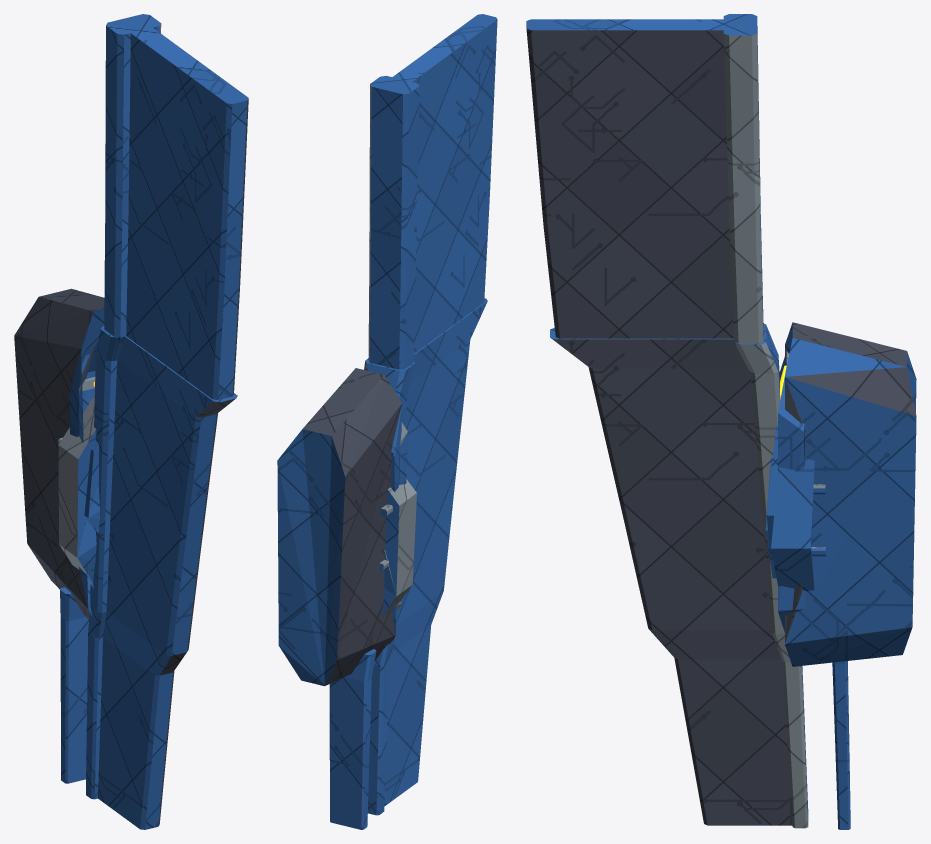
File: LeftBasicHandArmW.glb
The picture shows the model from 3 angles, left to right: view 1: azimuth 30°, elevation 25°; view 2: azimuth 150°, elevation 25°; view 3: azimuth 270°, elevation 25°; orthographic projection. The views are drawn at different scales.
Parts seen in each view (by area): view 1: LeftBasicHandArmW_Fore, LeftBasicHandArmW_Upper, LeftBasicHandArmW_Fist; view 2: LeftBasicHandArmW_Fore, LeftBasicHandArmW_Upper, LeftBasicHandArmW_Fist; view 3: LeftBasicHandArmW_Fore, LeftBasicHandArmW_Upper, LeftBasicHandArmW_Fist.
Part boxes in pixels (x1,y1,x2,y2): LeftBasicHandArmW_Fore: (14, 288, 237, 829); LeftBasicHandArmW_Upper: (104, 14, 248, 399); LeftBasicHandArmW_Fist: (60, 587, 88, 783); LeftBasicHandArmW_Fore: (277, 298, 487, 815); LeftBasicHandArmW_Upper: (368, 14, 497, 369); LeftBasicHandArmW_Fist: (329, 649, 376, 829); LeftBasicHandArmW_Fore: (550, 322, 916, 828); LeftBasicHandArmW_Upper: (526, 14, 763, 370); LeftBasicHandArmW_Fist: (832, 661, 850, 829).
Size of the model in its own units: 2.02 by 14.76 by 6.55.
Materials: 4 (3 with a texture image).
